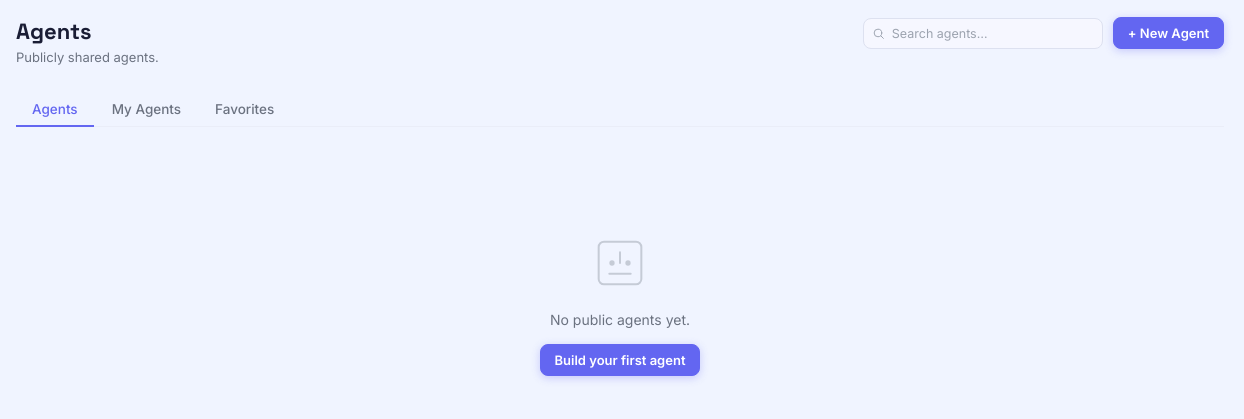
Test case: AgentsPage › Authenticated user › shows Subscribed badge on subscribed agents in My Agents tab
This screenshot has width=1244, height=419.
Click the tab "My Agents" at (146, 110), box [96, 93, 197, 127]
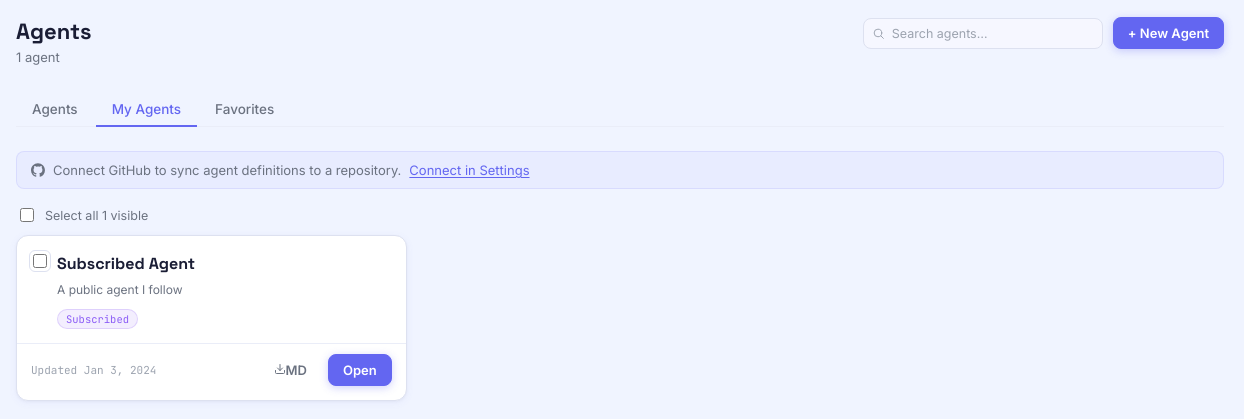
Now the text "Subscribed" is shown, box [57, 309, 138, 329]
